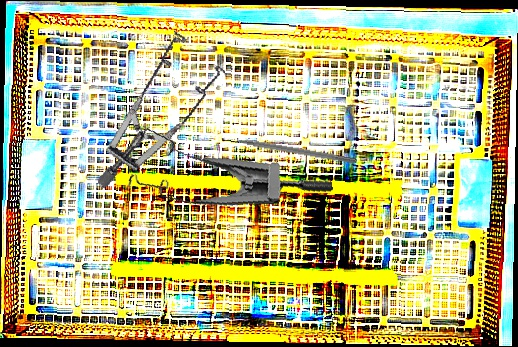Hook Surgical: (223, 133, 357, 165)
Speculum: (58, 18, 249, 191), (118, 95, 334, 232)
